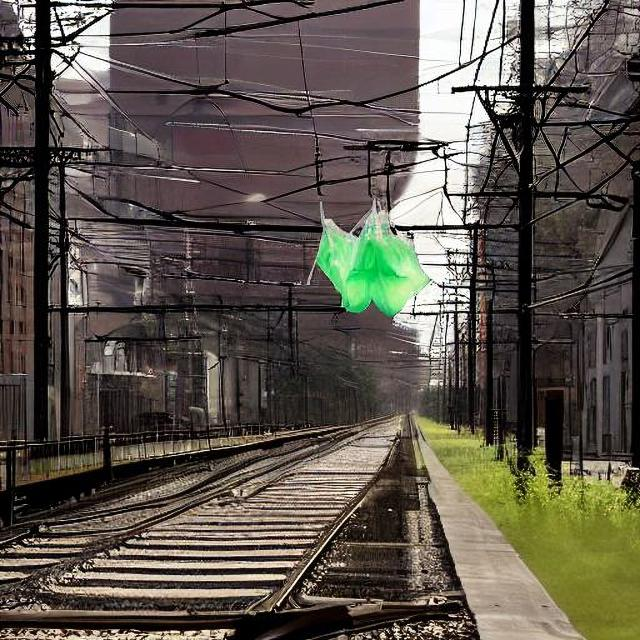plastic bag: (314, 198, 424, 315)
